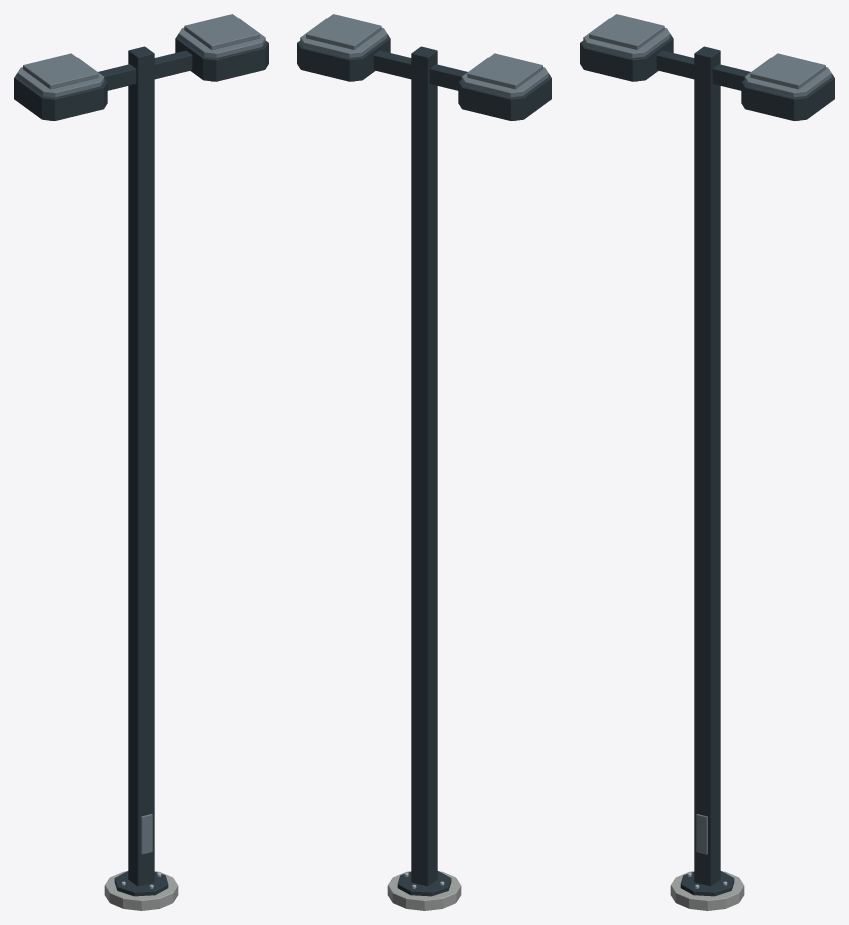
File: b18_twin_shoebox_parking_lamp.glb
3 renders of one model, left to right at view 1: azimuth 30°, elevation 25°; view 2: azimuth 150°, elevation 25°; view 3: azimuth 330°, elevation 25°, orthographic.
Visible parts, largest first — view 1: b18_twin_shoebox_parking_lamp; view 2: b18_twin_shoebox_parking_lamp; view 3: b18_twin_shoebox_parking_lamp.
Part boxes in pixels (x1,y1,x2,y2): b18_twin_shoebox_parking_lamp: (14, 14, 268, 910); b18_twin_shoebox_parking_lamp: (297, 14, 551, 910); b18_twin_shoebox_parking_lamp: (580, 14, 834, 910).
Size of the model in its own units: 2 by 7.12 by 0.57.
